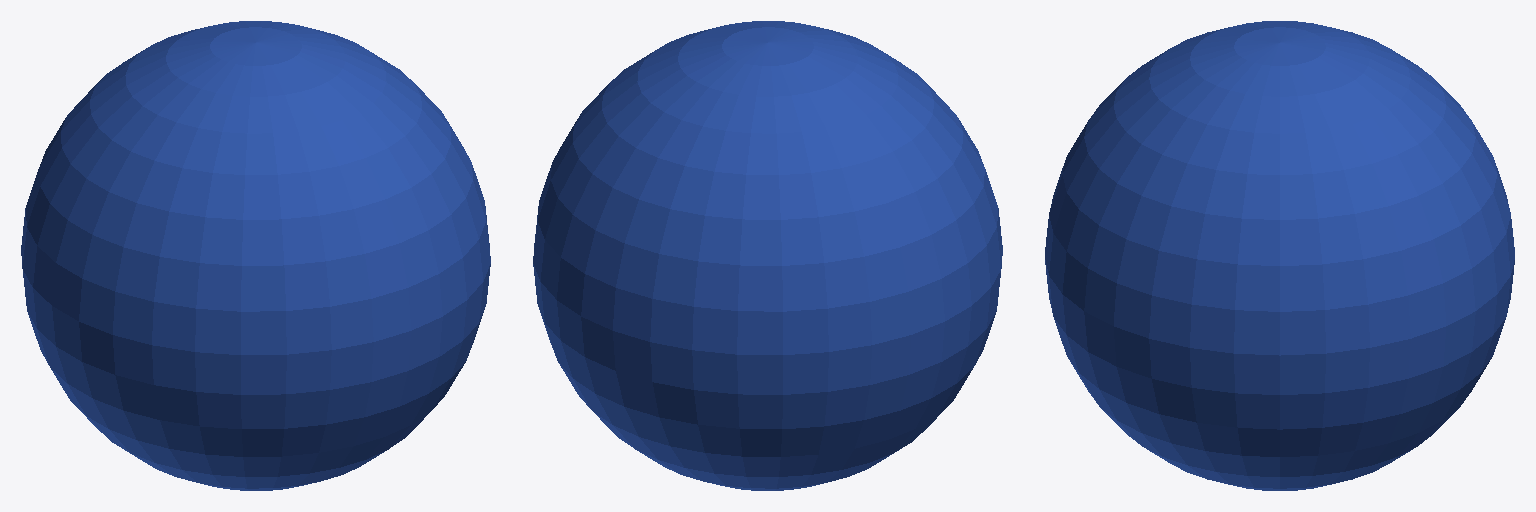
File: gem_type_7.obj
The picture shows the model from 3 angles: view 1: azimuth 30°, elevation 25°; view 2: azimuth 150°, elevation 25°; view 3: azimuth 270°, elevation 25°; orthographic projection.
Visible parts, largest first — view 1: gem_type_7; view 2: gem_type_7; view 3: gem_type_7.
Boxes of the visible parts, x1=… form: gem_type_7: x1=21, y1=21, x2=490, y2=490; gem_type_7: x1=533, y1=21, x2=1002, y2=490; gem_type_7: x1=1045, y1=21, x2=1514, y2=490.
Bounding box in the file's own units: 0.96 × 0.96 × 0.96.